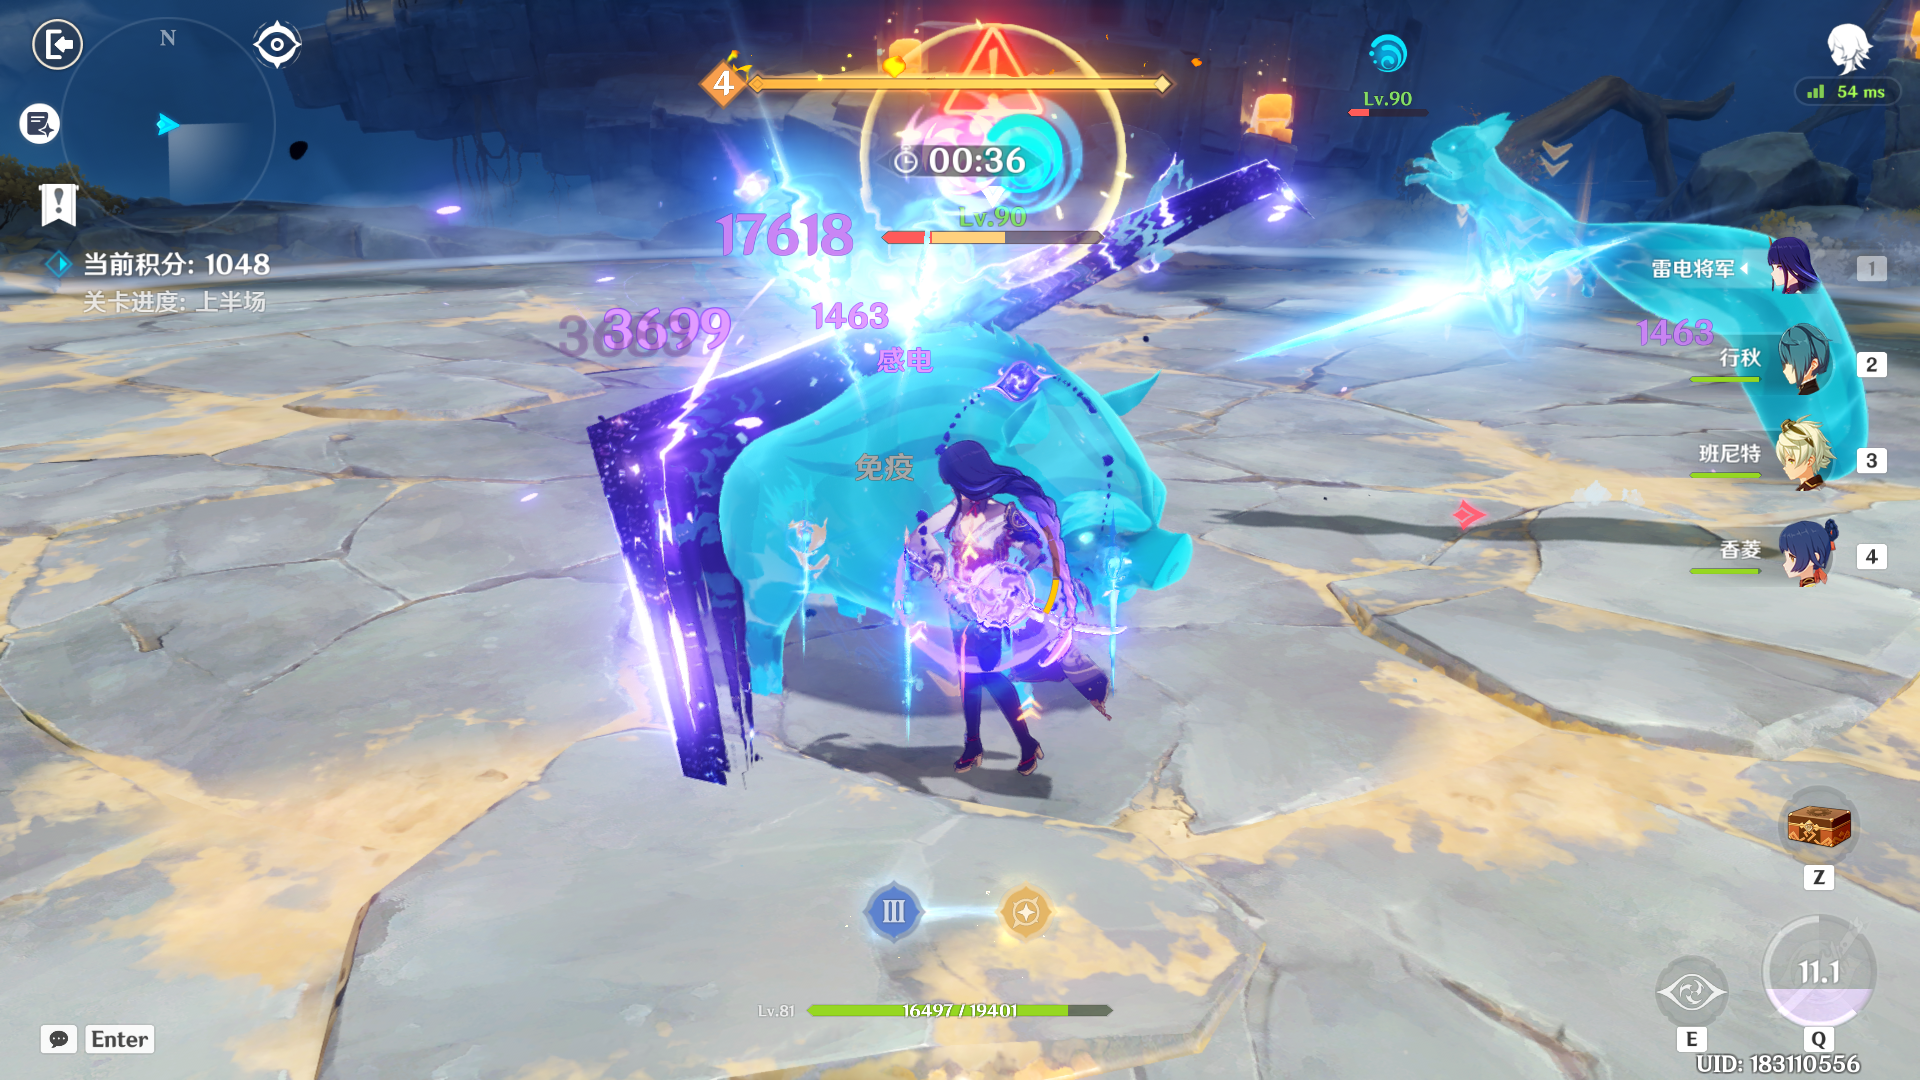character: (887, 402, 1130, 810)
